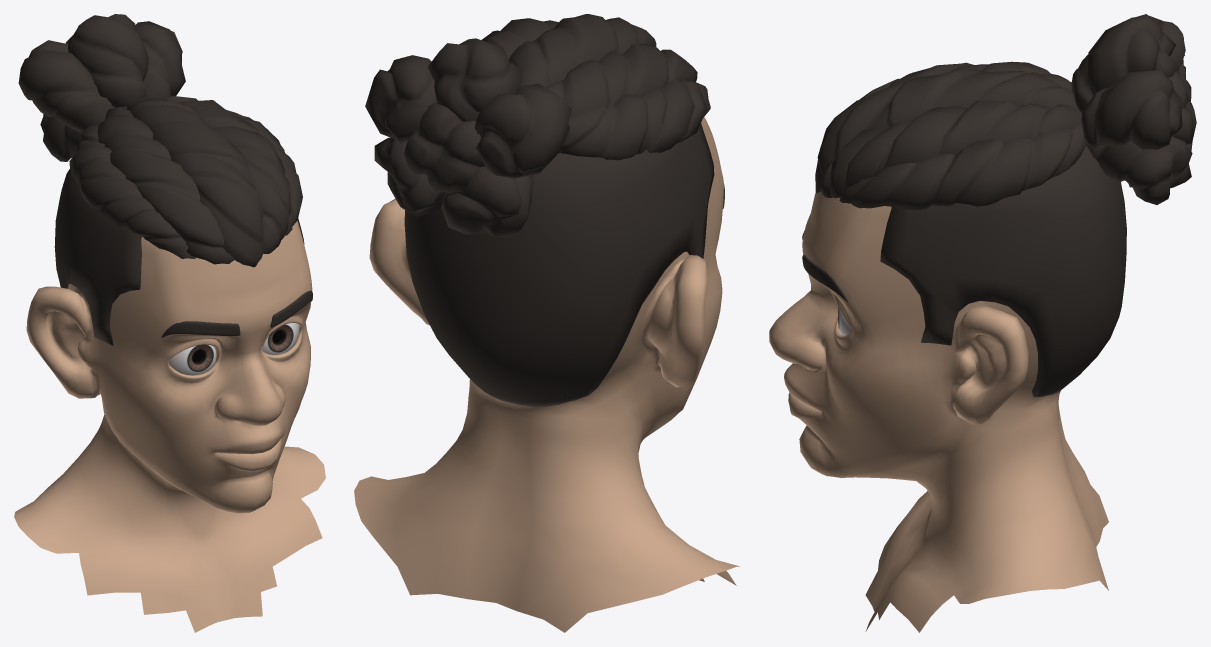
Rendered from head-study.glb.
3 views of the same model, side by side, from view 1: azimuth 30°, elevation 25°; view 2: azimuth 150°, elevation 25°; view 3: azimuth 270°, elevation 25° (orthographic). The views are drawn at different scales.
Parts seen in each view (by area): view 1: study-head, study-hair_base, study-eyes, study-eyebrows; view 2: study-hair_base, study-head; view 3: study-hair_base, study-head, study-eyebrows.
Boxes of the visible parts, <box> form: study-head: <box>14,221,325,632</box>; study-hair_base: <box>18,14,304,345</box>; study-eyes: <box>168,322,299,375</box>; study-eyebrows: <box>161,290,312,337</box>; study-hair_base: <box>365,14,714,406</box>; study-head: <box>354,117,739,632</box>; study-hair_base: <box>815,14,1196,397</box>; study-head: <box>769,191,1108,632</box>; study-eyebrows: <box>802,230,848,302</box>.
Bounding box in the file's own units: 0.3091 × 0.5191 × 0.3398.
Materials: 5 (1 with a texture image).
